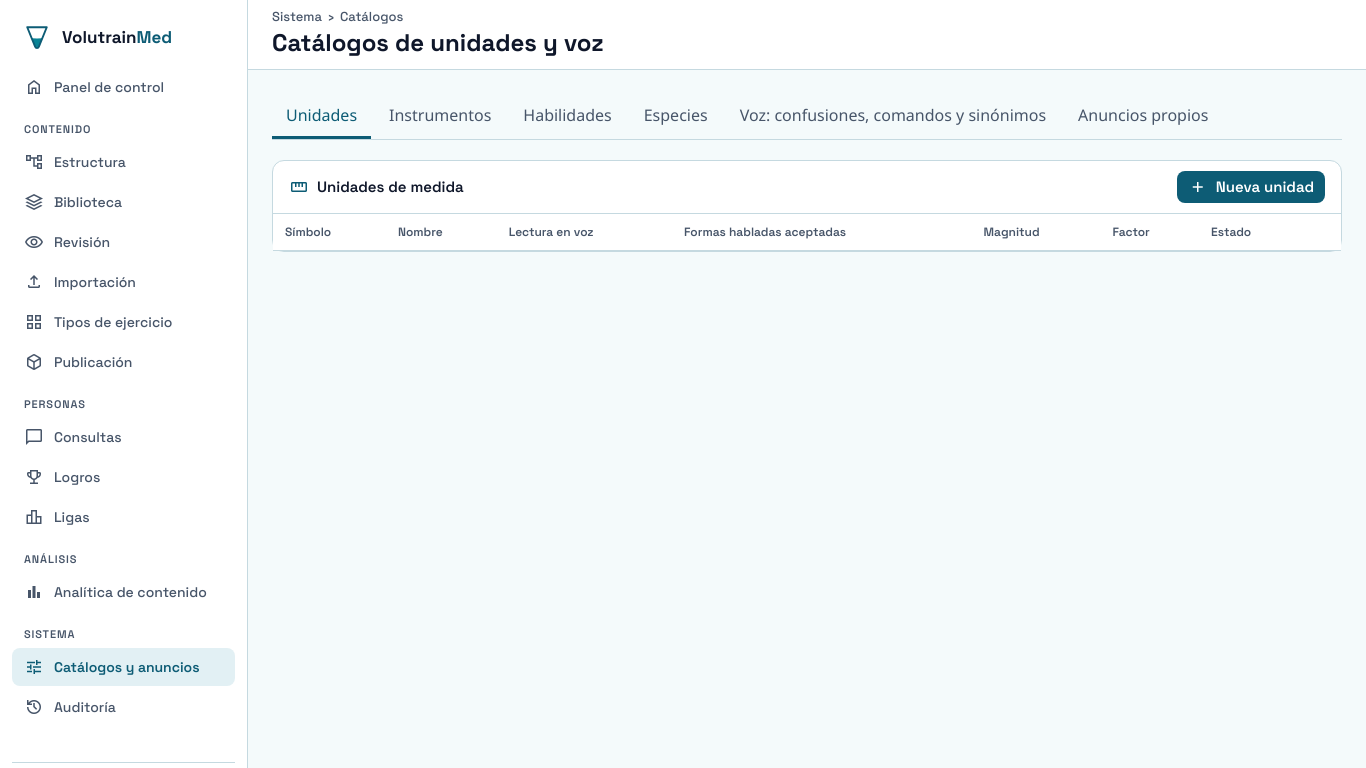
Test: B26 · catálogos de unidades y voz › la espera de los anuncios se cambia y llega con la siguiente publicación
Step 1. Click the tab "Anuncios propios" → (1143, 116), box [1064, 94, 1222, 139]
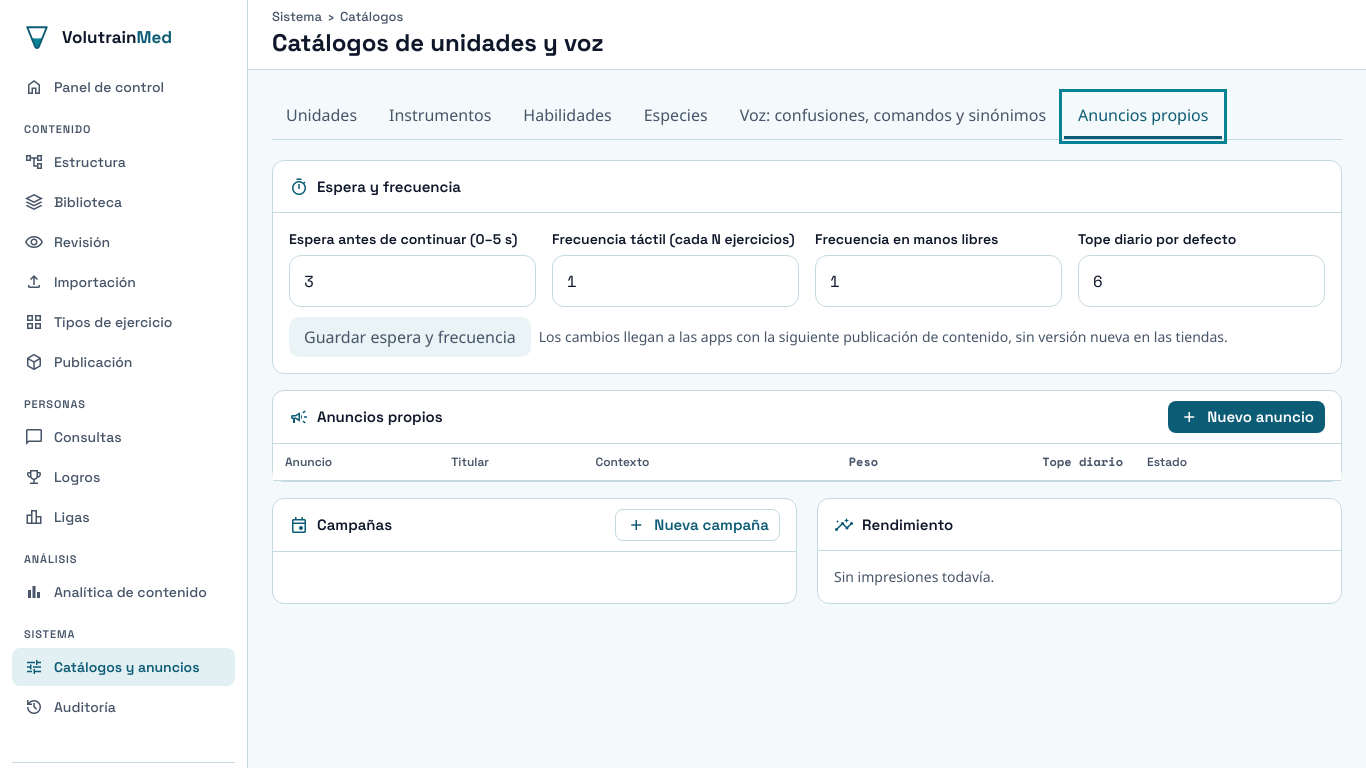
Step 2. Replace the text in the number field labelled "Espera antes de continuar (0–5 s)" with "2" → (412, 281), box [289, 255, 536, 307]
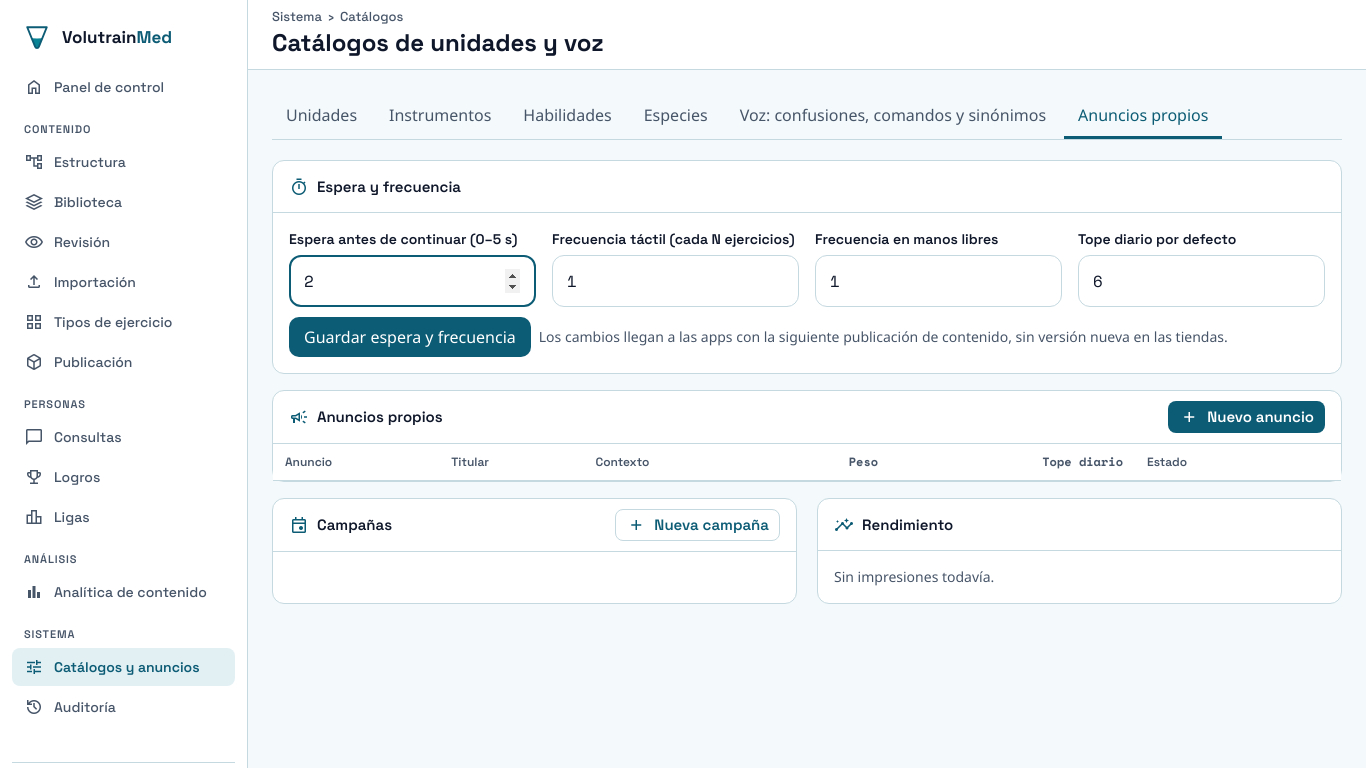
Step 3. Click the button "Guardar espera y frecuencia" → (410, 337), box [289, 317, 531, 357]
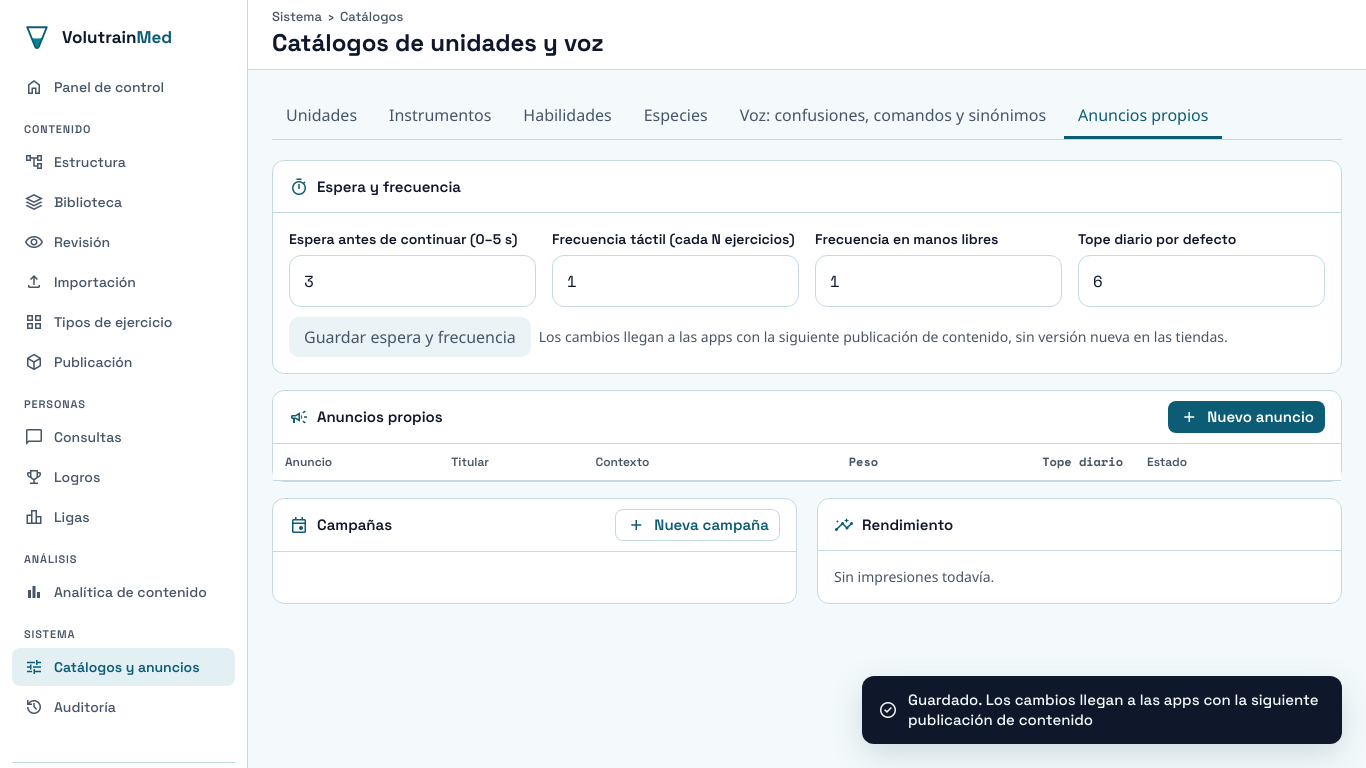
Check: the text "Guardado. Los cambios llegan a las apps con la siguiente publicación de contenido" is shown, box [908, 690, 1318, 729]
